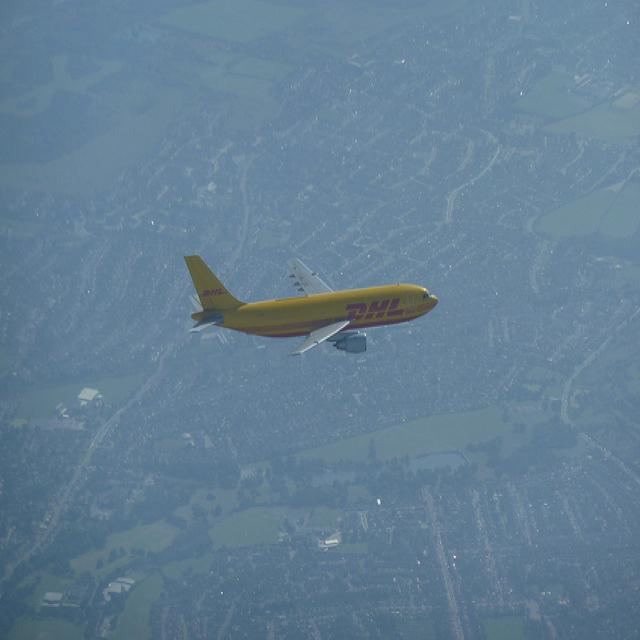airplane: (183, 252, 440, 358)
